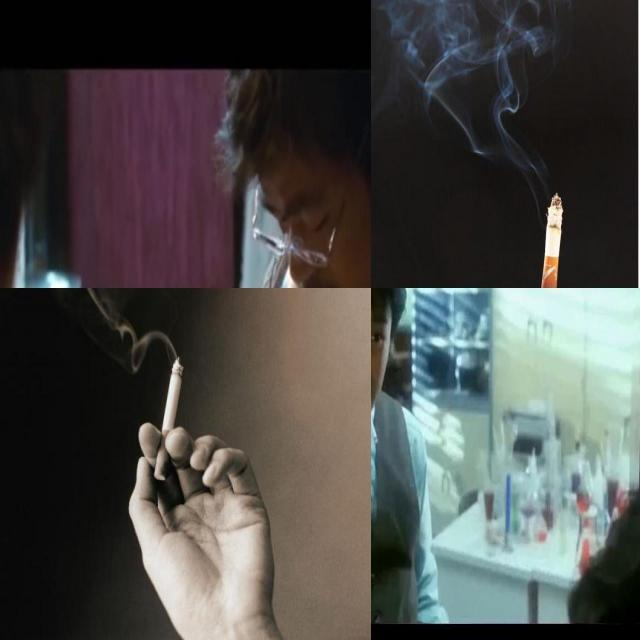smoke: (152, 349, 185, 486), (541, 192, 563, 288), (371, 391, 380, 446)
